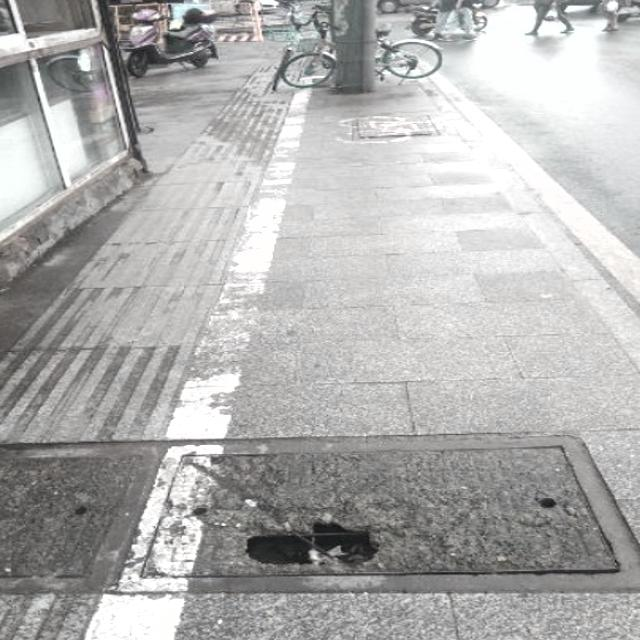broke: (114, 436, 640, 596)
good: (0, 441, 160, 591)
